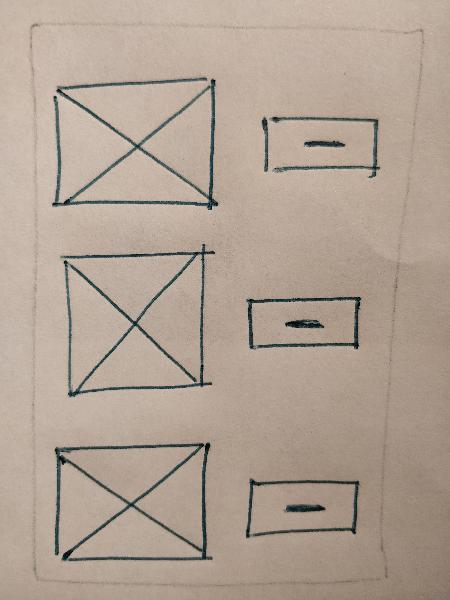button: (254, 103, 387, 188), (239, 286, 370, 364), (241, 467, 365, 546)
image: (47, 75, 227, 219), (49, 244, 217, 398), (50, 437, 216, 569)
